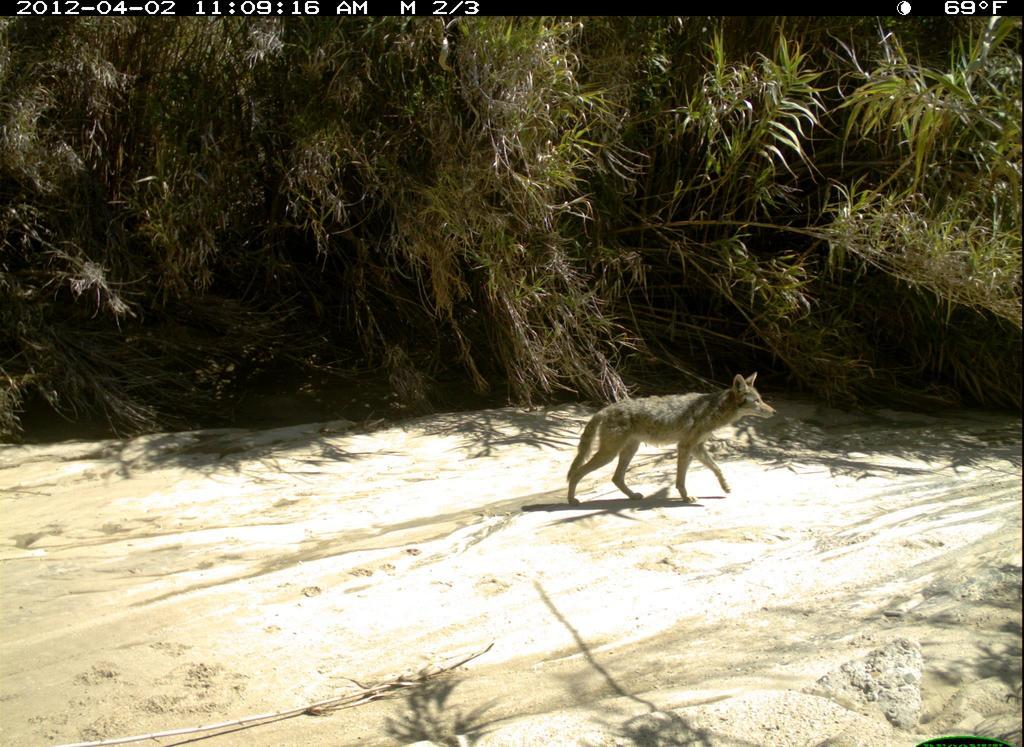coyote: (561, 363, 785, 520)
